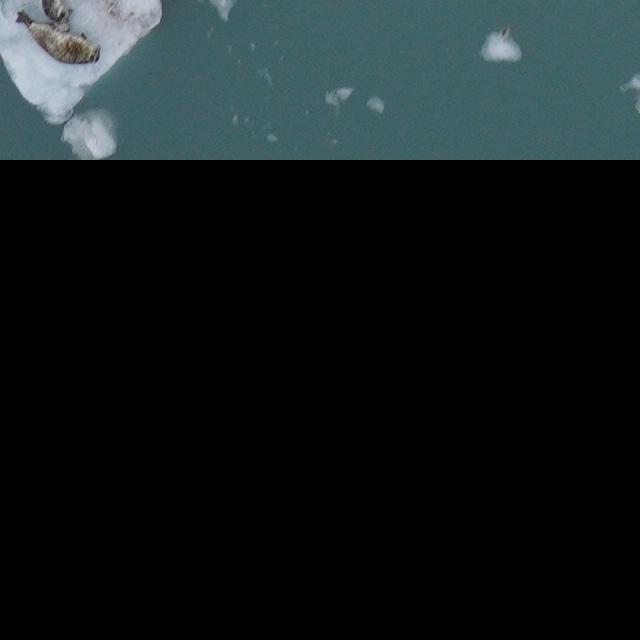seal: (11, 7, 104, 68), (37, 0, 77, 38)
